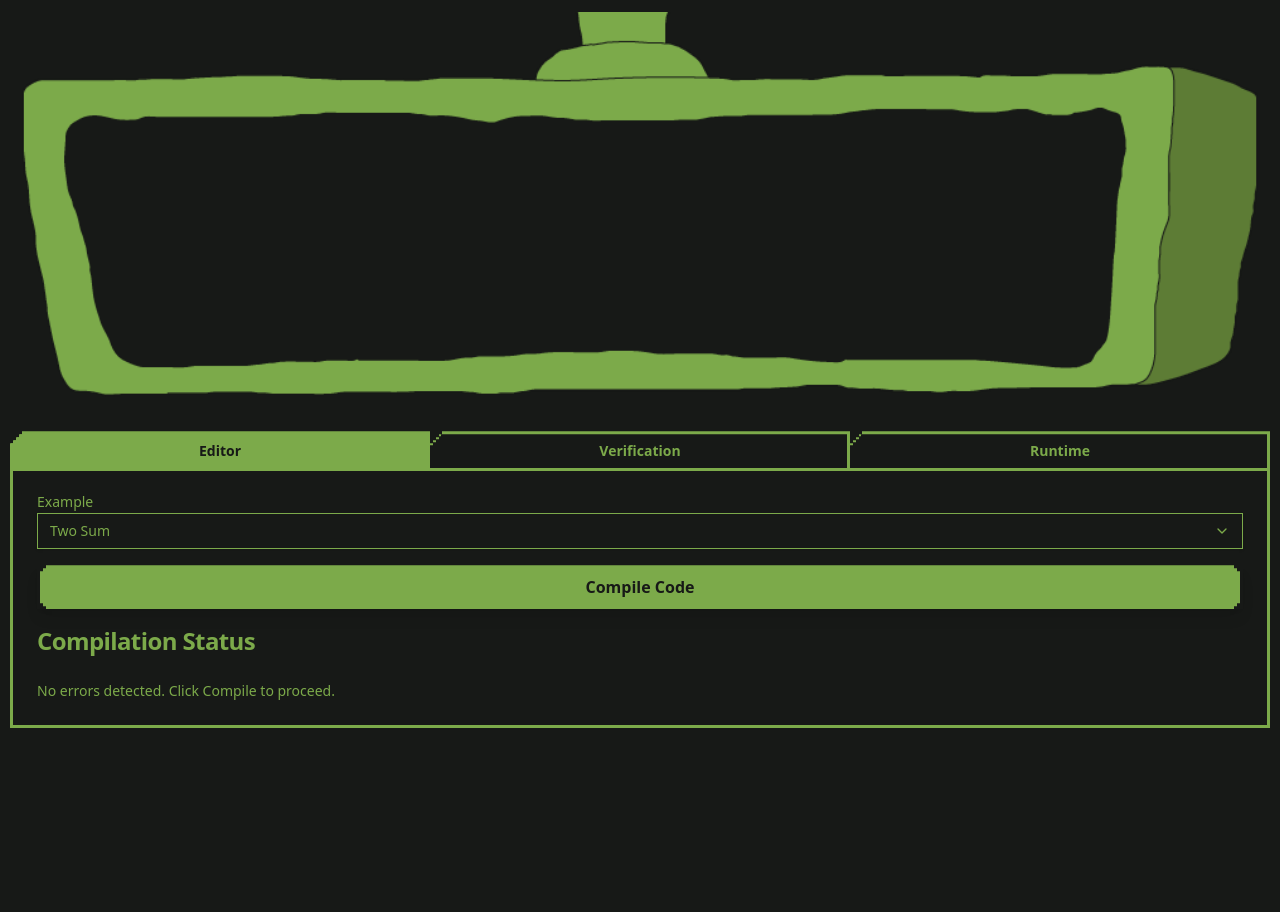
Test: ControlPanel › filters examples and shows category labels
The image size is (1280, 912).
Click the dropdown named "Example": click(80, 531) [37, 513, 1243, 549]
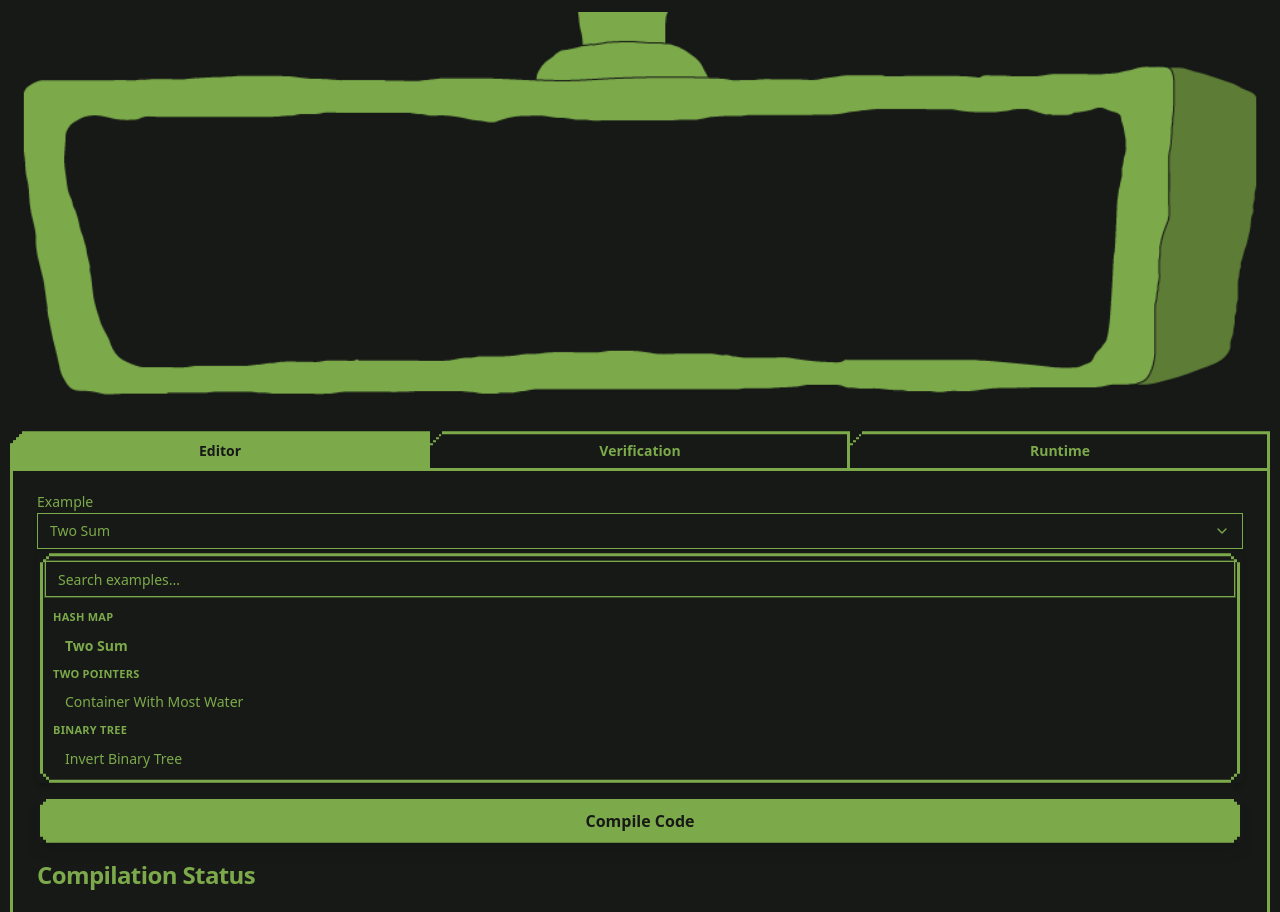
In the field labelled "Search examples": (640, 579) [45, 561, 1235, 597], type "tree"
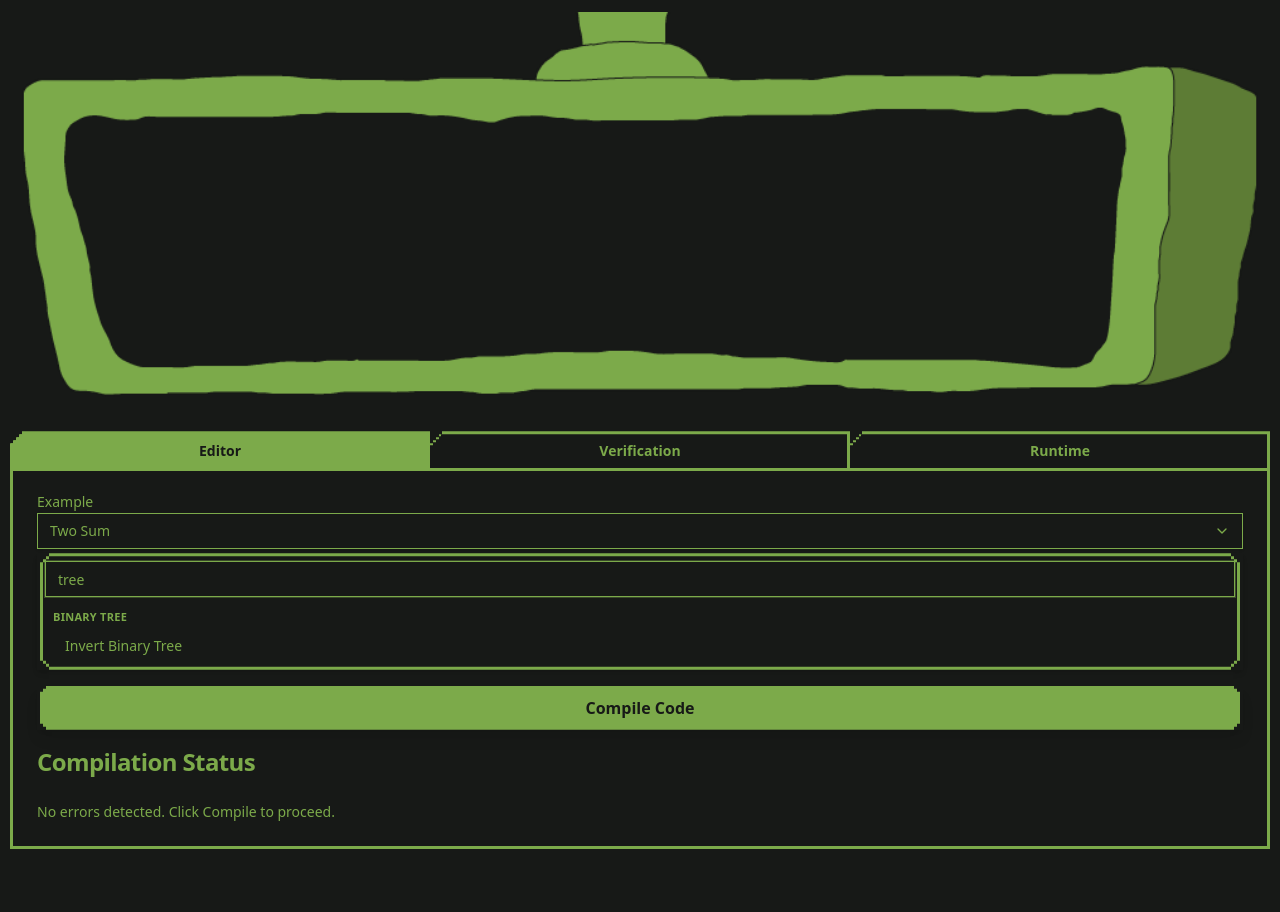
expect the text "Binary Tree" is shown: met, box [53, 609, 127, 624]
expect the option "Invert Binary Tree" is shown: met, box [45, 630, 1235, 662]
expect the option "Container With Most Water" is gone: met
